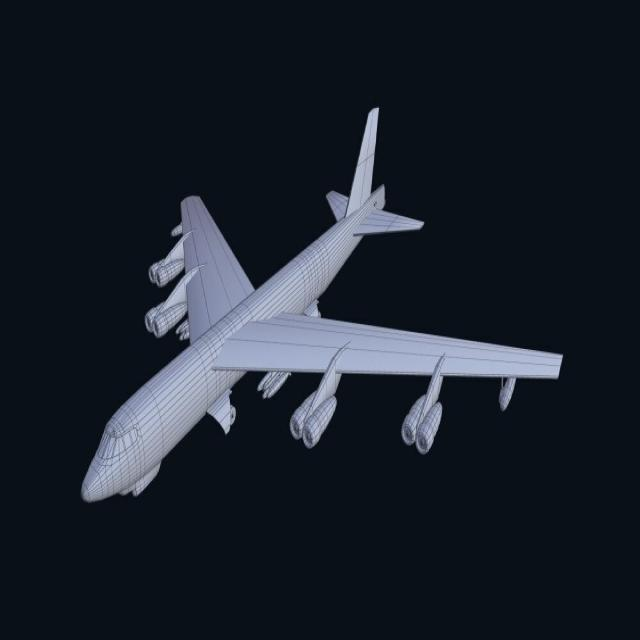B52: (58, 46, 587, 515)
